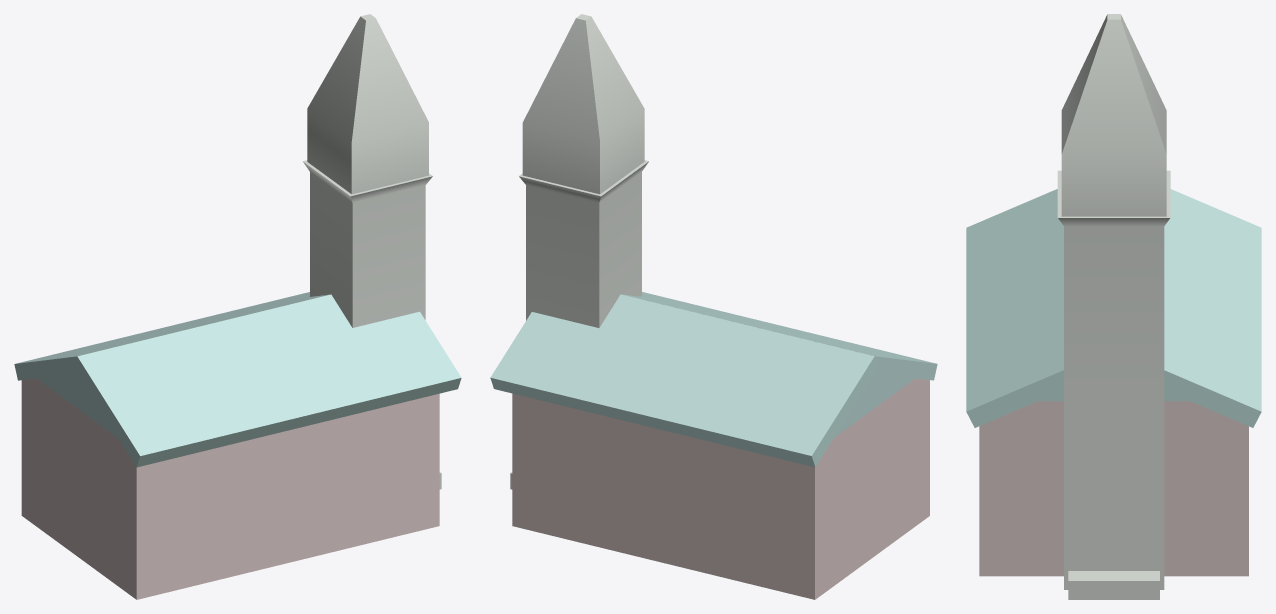
Rendered from Church.fbx.
3 views of the same model, side by side, from view 1: azimuth 30°, elevation 25°; view 2: azimuth 150°, elevation 25°; view 3: azimuth 270°, elevation 25° (orthographic). The views are drawn at different scales.
Parts seen in each view (by area): view 1: MainBody, pCube4, pCube2, pCube6, pCube5, pCube7; view 2: MainBody, pCube5, pCube2, pCube6, pCube4, pCube7; view 3: pCube2, MainBody, pCube4, pCube5, pCube6, pCube3.
Boxes of the visible parts, bbox=[...] form: MainBody: bbox=[21, 378, 439, 599]; pCube4: bbox=[74, 294, 461, 467]; pCube2: bbox=[303, 160, 432, 327]; pCube6: bbox=[307, 14, 428, 194]; pCube5: bbox=[14, 292, 329, 380]; pCube7: bbox=[37, 373, 117, 437]; MainBody: bbox=[512, 378, 929, 599]; pCube5: bbox=[490, 294, 878, 467]; pCube2: bbox=[519, 160, 648, 327]; pCube6: bbox=[522, 14, 644, 194]; pCube4: bbox=[623, 292, 937, 380]; pCube7: bbox=[834, 373, 914, 437]; pCube2: bbox=[1057, 170, 1170, 589]; MainBody: bbox=[979, 401, 1248, 576]; pCube4: bbox=[966, 189, 1063, 427]; pCube5: bbox=[1164, 189, 1261, 427]; pCube6: bbox=[1061, 14, 1166, 216]; pCube3: bbox=[1068, 571, 1159, 599].
Size of the model in its own units: 11.28 by 14.72 by 7.13.
